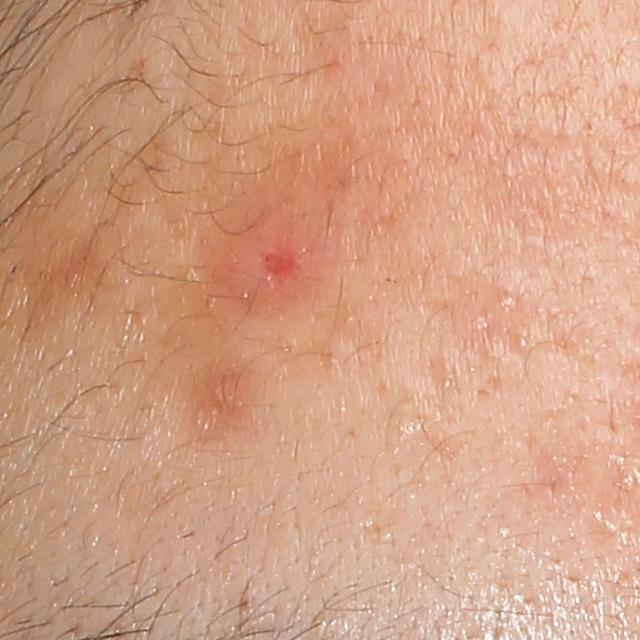comedo: (507, 328, 533, 356), (470, 311, 495, 332), (492, 292, 514, 314)
